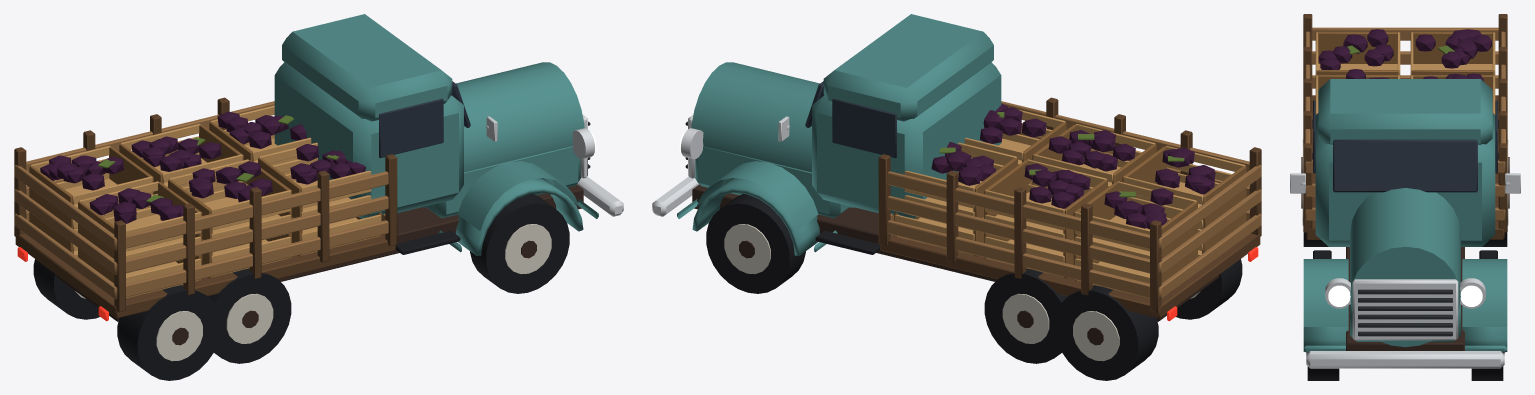
The model's file is camion.glb.
3 views of the same model, side by side, from view 1: azimuth 30°, elevation 25°; view 2: azimuth 150°, elevation 25°; view 3: azimuth 270°, elevation 25° (orthographic). The views are drawn at different scales.
Parts seen in each view (by area): view 1: camion; view 2: camion; view 3: camion.
Boxes of the visible parts, x1,y1,x2,y2 form: camion: (14, 14, 623, 380); camion: (652, 14, 1261, 380); camion: (1290, 14, 1520, 380).
Bounding box in the file's own units: 4.39 × 1.9 × 1.75.
